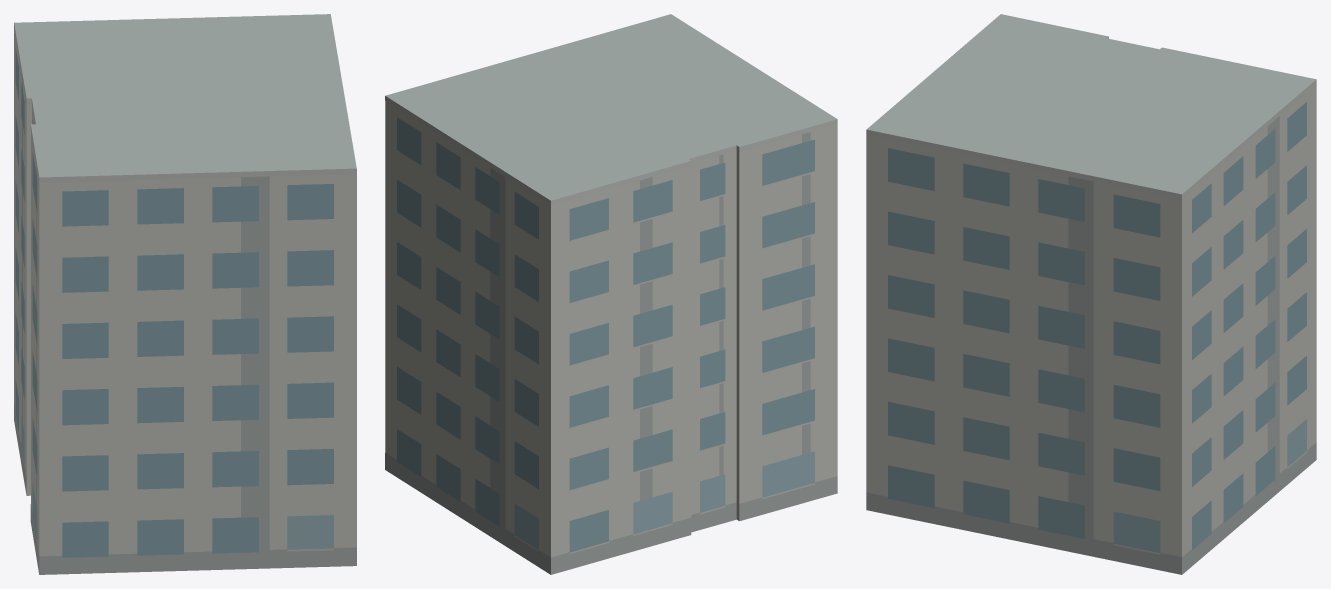
Rendered from survey-upis-32842182.glb.
The picture shows the model from 3 angles, left to right: view 1: azimuth 30°, elevation 25°; view 2: azimuth 150°, elevation 25°; view 3: azimuth 270°, elevation 25°; orthographic projection. The views are drawn at different scales.
Parts seen in each view (by area): view 1: survey-upis-32842182.tmp; view 2: survey-upis-32842182.tmp; view 3: survey-upis-32842182.tmp.
Boxes of the visible parts, x1,y1,x2,y2 form: survey-upis-32842182.tmp: (14, 14, 356, 574); survey-upis-32842182.tmp: (385, 14, 837, 574); survey-upis-32842182.tmp: (866, 14, 1316, 574).
Bounding box in the file's own units: 18.21 × 17.9 × 19.21.
